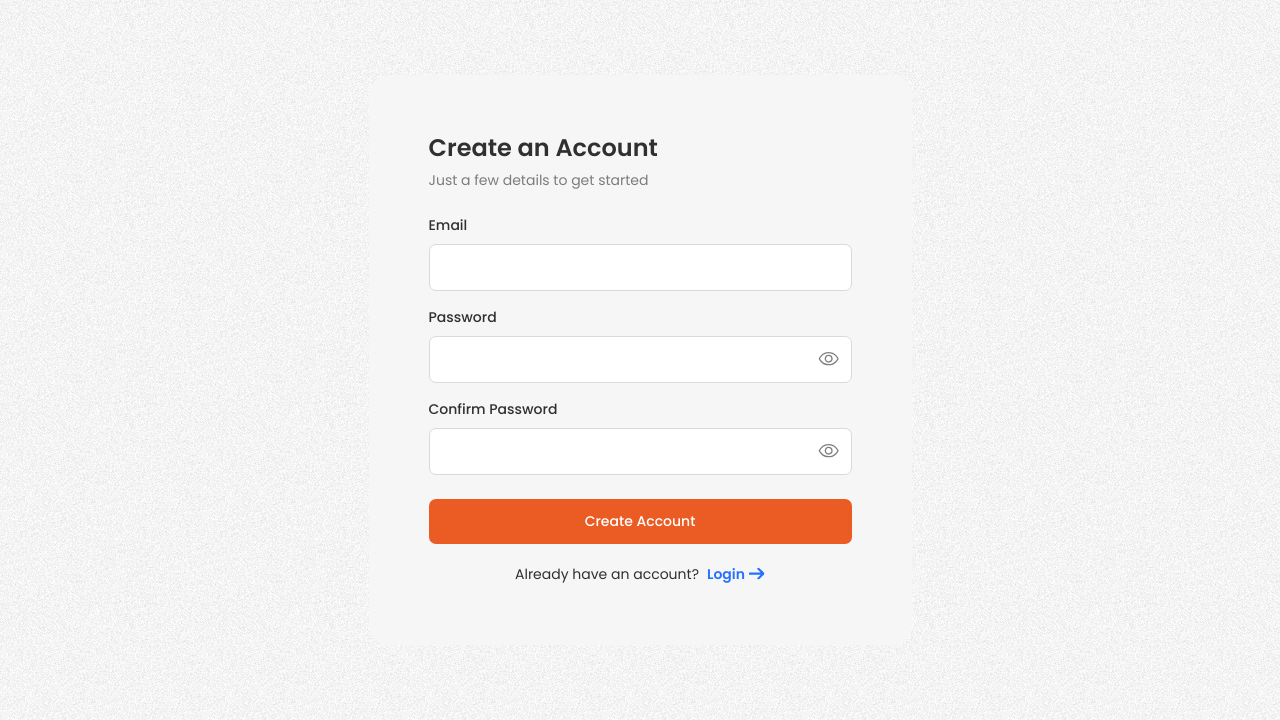
Scenario: SignUp Component › shows error when password is too short
The width and height of the screenshot is (1280, 720).
Fill out form with short password
Type "test@example.com" into the field labelled "Email" at (640, 267), box top-left (428, 244), bottom-right (852, 291)
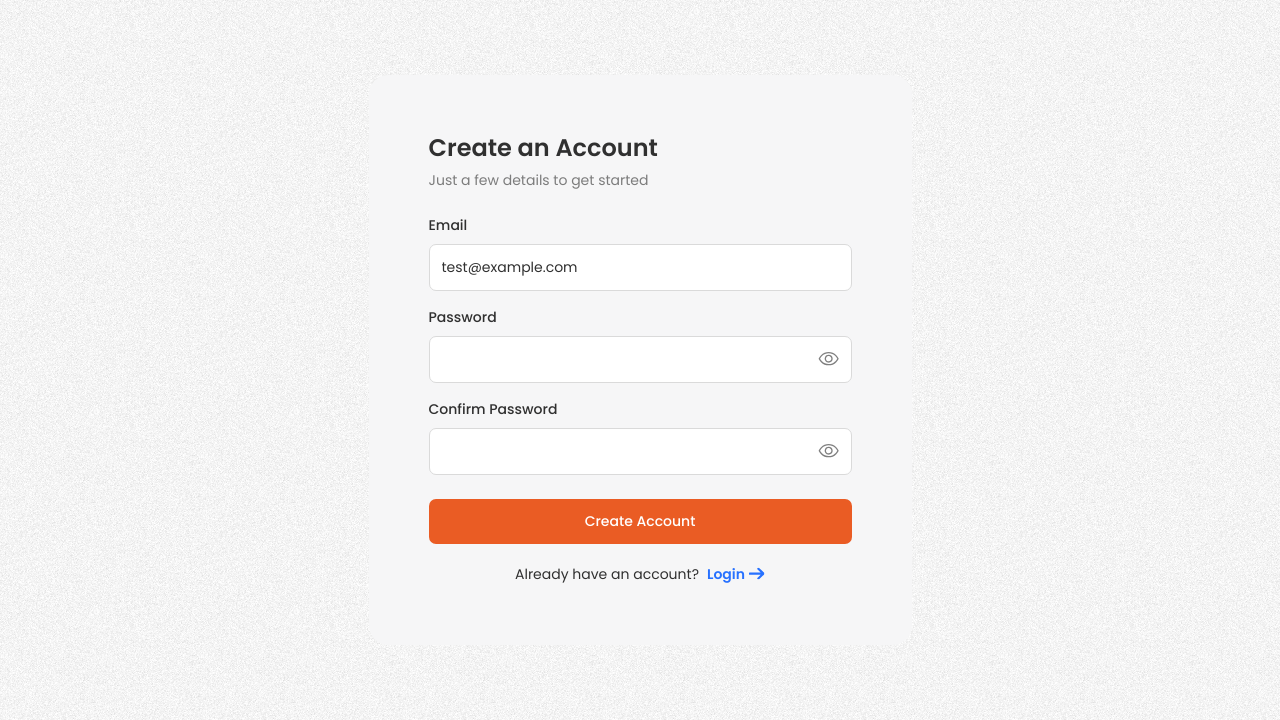
Type "short" into the password field named "password" at (640, 359), box top-left (428, 336), bottom-right (852, 383)
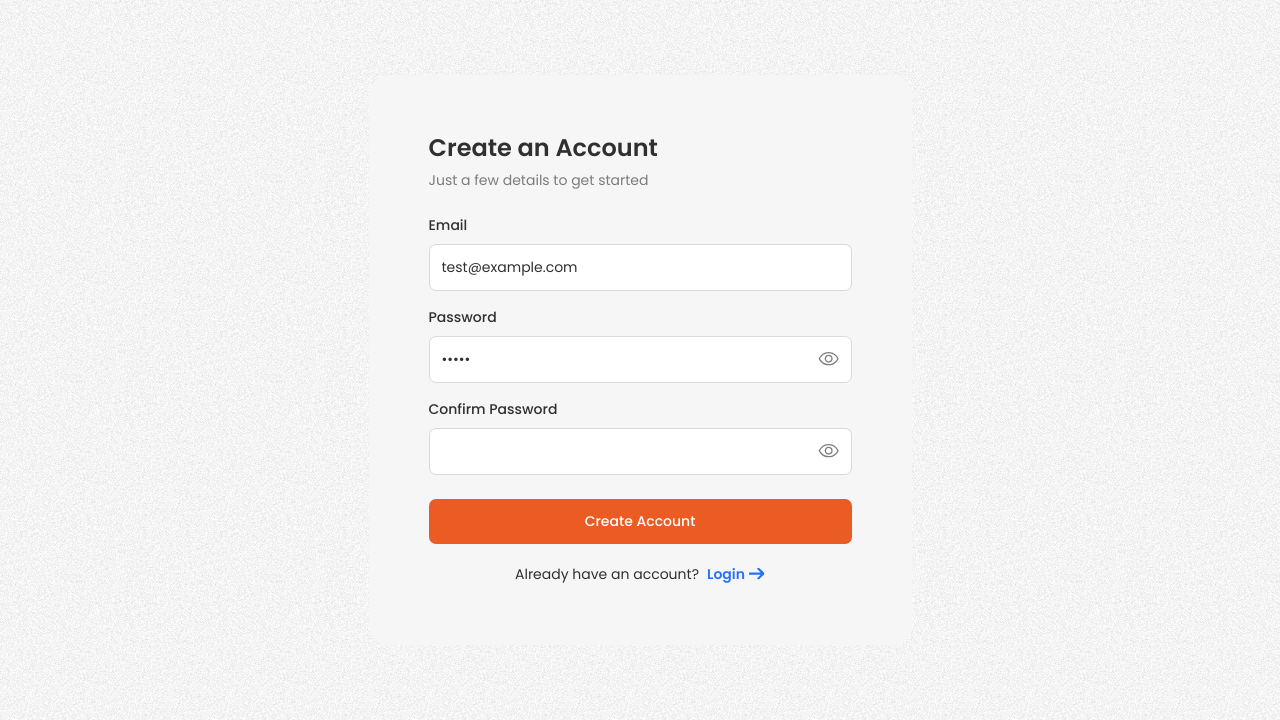
Type "short" into the password field named "confirmPassword" at (640, 451), box top-left (428, 428), bottom-right (852, 475)
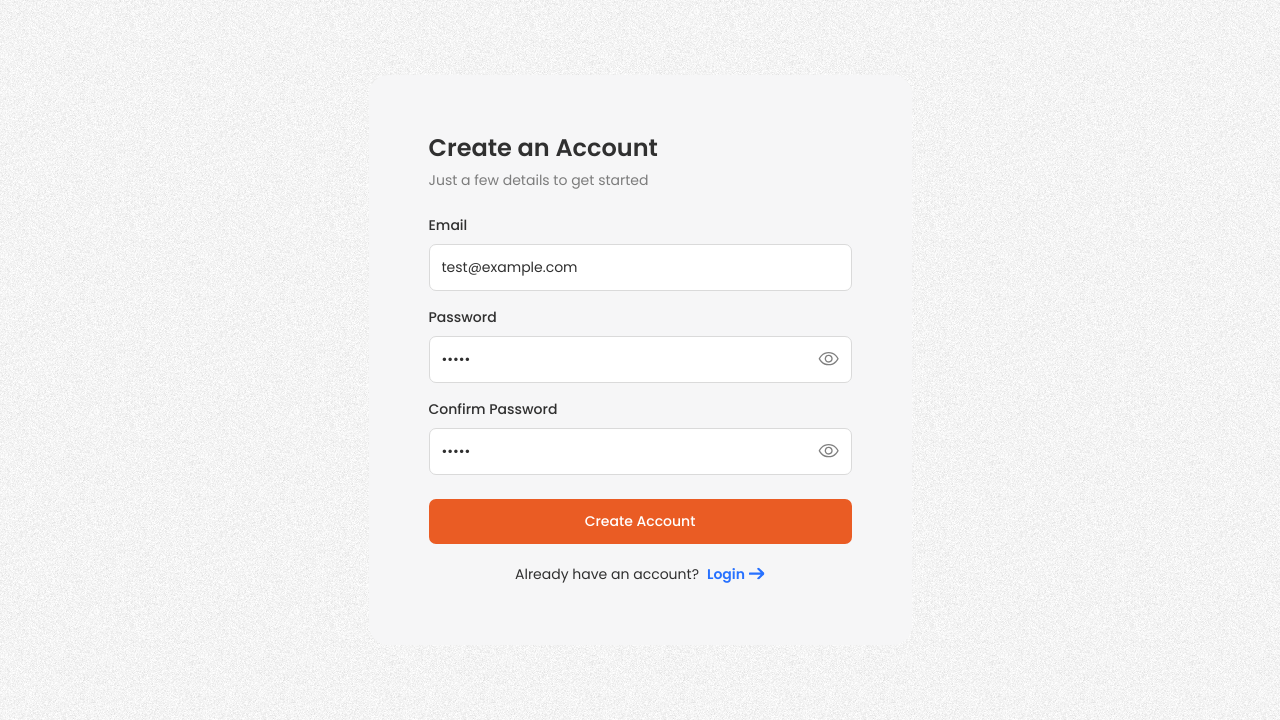
Submit the form
Click the submit button at (640, 521), box top-left (428, 499), bottom-right (852, 544)
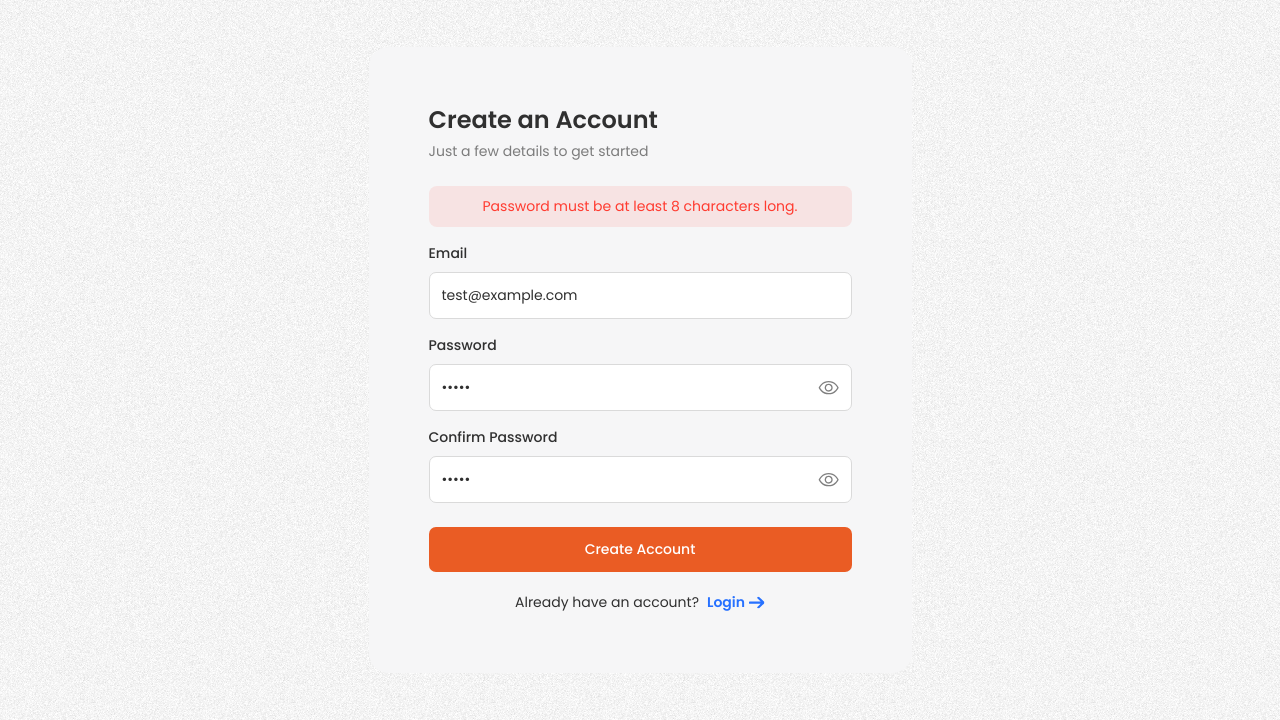
expect the text "Password must be at least 8 characters long." is shown: met, box top-left (428, 186), bottom-right (852, 227)
